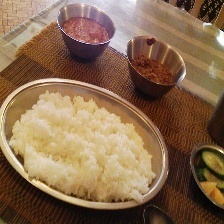rice: (8, 92, 155, 206)
